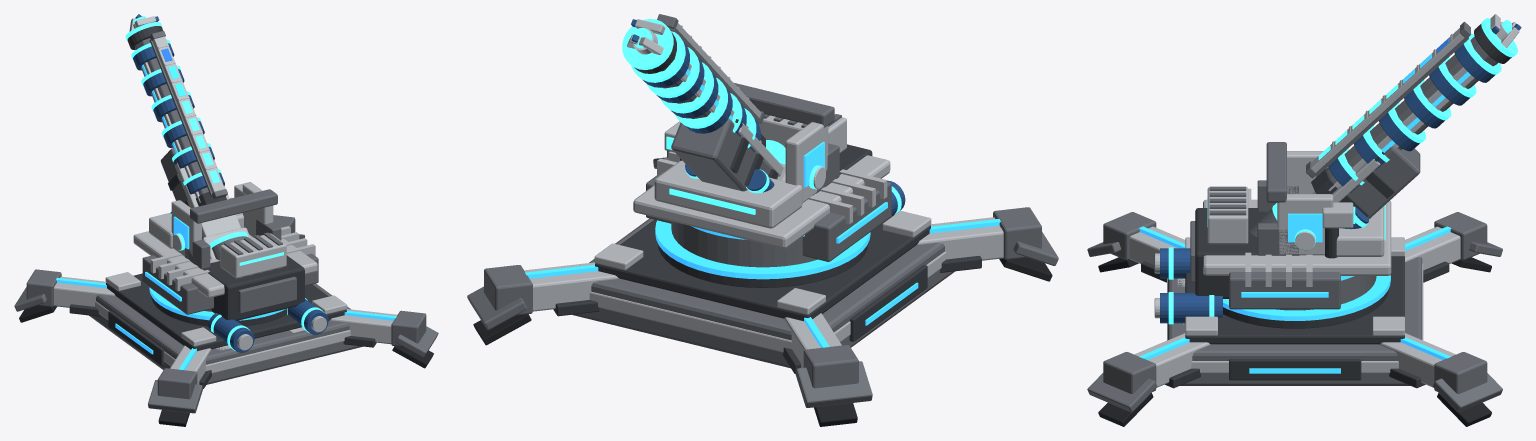
3 renders of one model, left to right at view 1: azimuth 30°, elevation 25°; view 2: azimuth 150°, elevation 25°; view 3: azimuth 270°, elevation 25°, orthographic. The views are drawn at different scales.
Parts seen in each view (by area): view 1: Base_Chassis, Base_TopPlate, Yaw_RearBlock, Yaw_Deck, Yaw_RearTower, ChargeSpine, Base_WhiteBand_Front-1, Yoke_CrossBeam, Yaw_Sponson_-1, Yaw_RearGrill, Leg_Arm_3, Leg_Arm_1 (+25 smaller); view 2: Base_Chassis, Base_TopPlate, Yaw_Deck, Yaw_FrontWedge, Cradle_Body, Yaw_Drum, Base_TurnRingGlow, Base_WhiteBand_Front1, Yaw_Sponson_-1, Leg_Arm_2, Leg_Arm_0, Leg_Hinge_1 (+27 smaller); view 3: Base_Chassis, Base_TopPlate, Yaw_Deck, Yaw_Sponson_1, Base_SidePanel_1, Yaw_RearBlock, Cradle_Body, Base_TurnRingGlow, Yoke_Plate_1, ChargeSpine, Yaw_RearTower, Barrel_Housing (+38 smaller).
Part boxes in pixels (bbox=[...]): Base_Chassis: bbox=[89, 283, 362, 384]; Base_TopPlate: bbox=[106, 273, 346, 351]; Yaw_RearBlock: bbox=[203, 255, 304, 320]; Yaw_Deck: bbox=[133, 231, 317, 297]; Yaw_RearTower: bbox=[220, 233, 286, 278]; ChargeSpine: bbox=[152, 36, 224, 193]; Base_WhiteBand_Front-1: bbox=[205, 330, 350, 373]; Yoke_CrossBeam: bbox=[190, 189, 277, 223]; Yaw_Sponson_-1: bbox=[142, 255, 213, 314]; Yaw_RearGrill: bbox=[238, 276, 296, 313]; Leg_Arm_3: bbox=[329, 309, 397, 344]; Leg_Arm_1: bbox=[53, 276, 115, 307]; Base_Chassis: bbox=[572, 218, 954, 368]; Base_TopPlate: bbox=[595, 215, 930, 321]; Yaw_Deck: bbox=[633, 155, 890, 248]; Yaw_FrontWedge: bbox=[654, 160, 802, 228]; Cradle_Body: bbox=[671, 118, 777, 191]; Yaw_Drum: bbox=[671, 221, 817, 267]; Base_TurnRingGlow: bbox=[655, 220, 870, 279]; Base_WhiteBand_Front1: bbox=[589, 291, 791, 352]; Yaw_Sponson_-1: bbox=[802, 181, 891, 261]; Leg_Arm_2: bbox=[916, 217, 1003, 260]; Leg_Arm_0: bbox=[524, 262, 619, 311]; Leg_Hinge_1: bbox=[803, 345, 858, 388]; Base_Chassis: bbox=[1168, 257, 1422, 385]; Base_TopPlate: bbox=[1185, 256, 1404, 344]; Yaw_Deck: bbox=[1203, 199, 1391, 275]; Yaw_Sponson_1: bbox=[1229, 272, 1340, 309]; Base_SidePanel_1: bbox=[1229, 359, 1361, 380]; Yaw_RearBlock: bbox=[1195, 208, 1267, 298]; Cradle_Body: bbox=[1339, 146, 1420, 218]; Base_TurnRingGlow: bbox=[1223, 275, 1390, 320]; Yoke_Plate_1: bbox=[1277, 194, 1333, 255]; ChargeSpine: bbox=[1311, 28, 1464, 172]; Yaw_RearTower: bbox=[1207, 187, 1248, 244]; Barrel_Housing: bbox=[1327, 36, 1498, 183].
Size of the model in its own units: 4.08 by 3.53 by 4.27.
